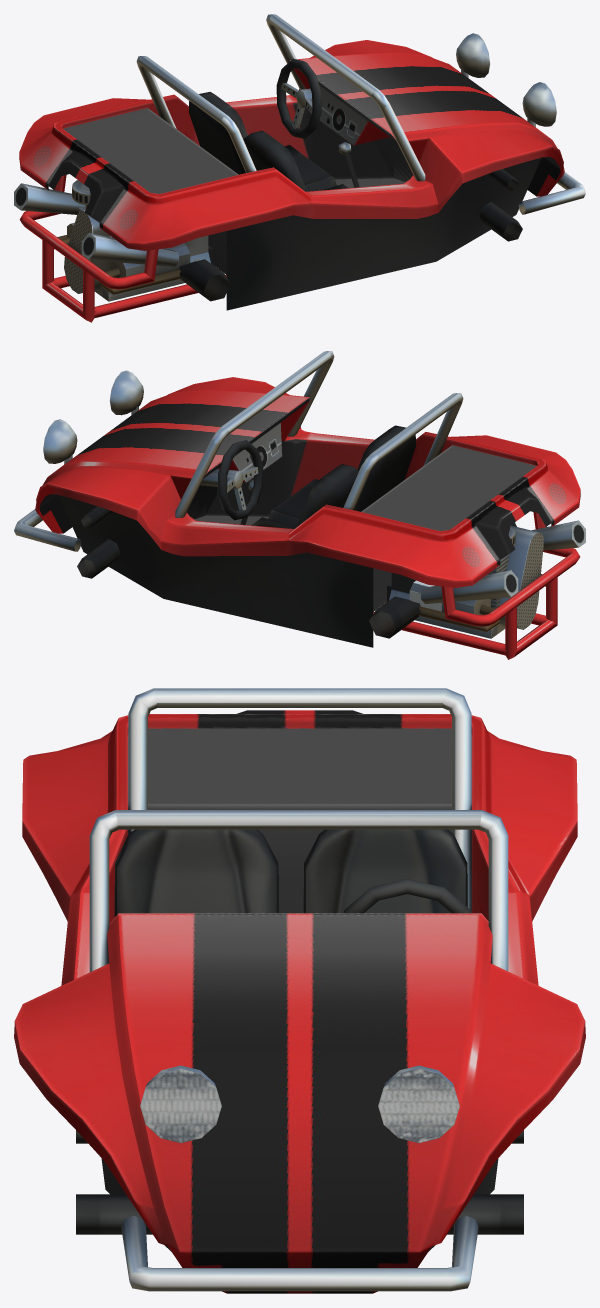
The model's file is f1_dune_buggy_06.dae.
3 views of the same model, one above another, from view 1: azimuth 30°, elevation 25°; view 2: azimuth 150°, elevation 25°; view 3: azimuth 270°, elevation 25° (orthographic). The views are drawn at different scales.
Visible parts, largest first — view 1: dune_buggy_body; view 2: dune_buggy_body; view 3: dune_buggy_body.
Boxes of the visible parts, x1,y1,x2,y2 form: dune_buggy_body: (14,14,585,322); dune_buggy_body: (14,351,585,659); dune_buggy_body: (14,688,585,1293).
Size of the model in its own units: 0.2733 by 0.1543 by 0.1016.
1 material, 1 textured.
